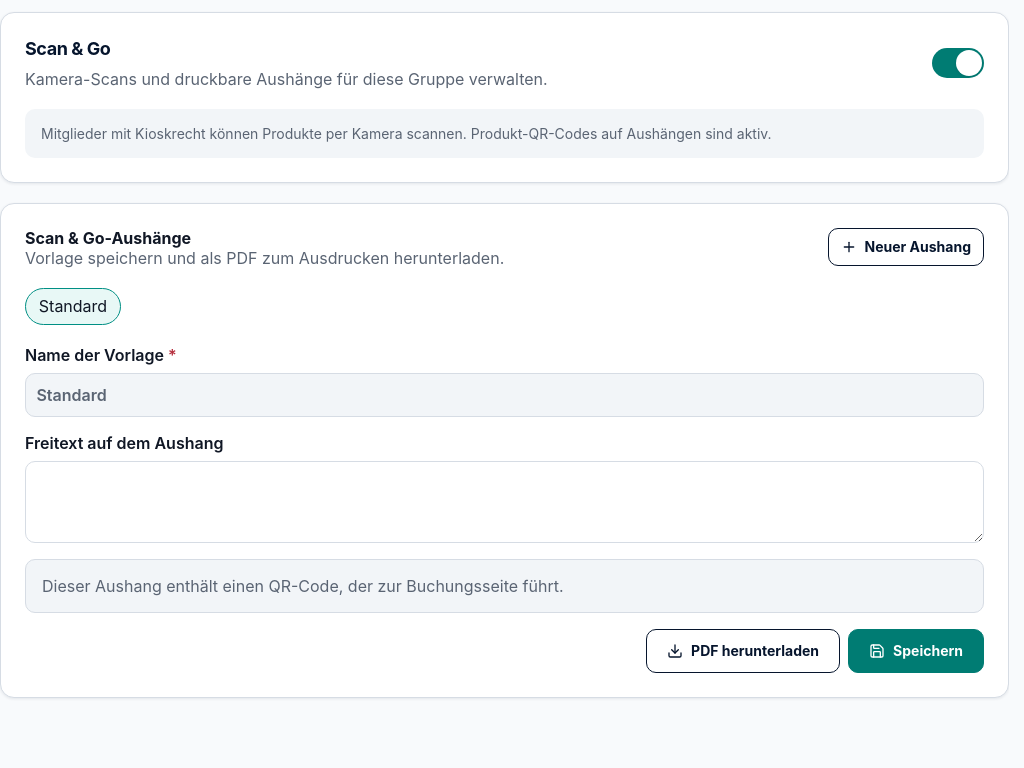
Test: KioskSettingsSection › explains the impact and confirms before disabling Scan and Go
The image size is (1024, 768).
Click the switch named "Scan & Go aktivieren" at x=958, y=63, box [932,48,984,78]
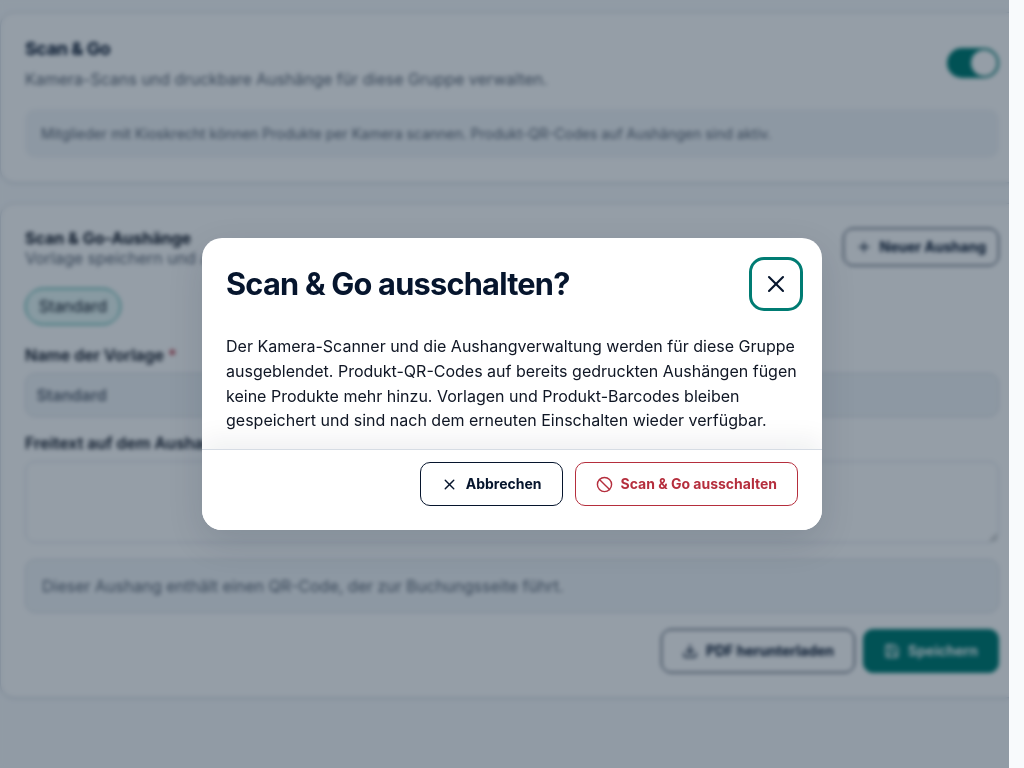
Expected: the switch named "Scan & Go aktivieren" is checked, [947,48,999,78]
Expected: the text "Der Kamera-Scanner und die Aushangverwaltung werden für diese Gruppe ausgeblendet. Produkt-QR-Codes auf bereits gedruckt" is shown, [226,336,797,430]
Click the button "Abbrechen" at x=491, y=484, box [420,462,562,506]
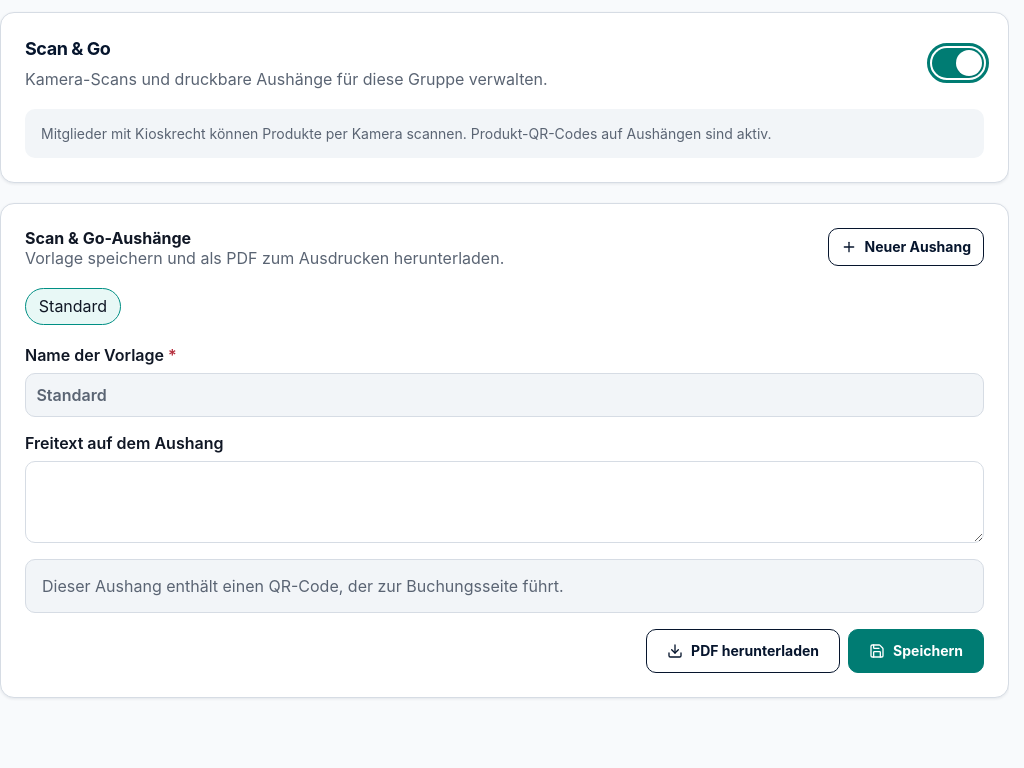
Expected: the heading "Scan & Go ausschalten?" is gone
Click the switch named "Scan & Go aktivieren" at x=958, y=63, box [932,48,984,78]
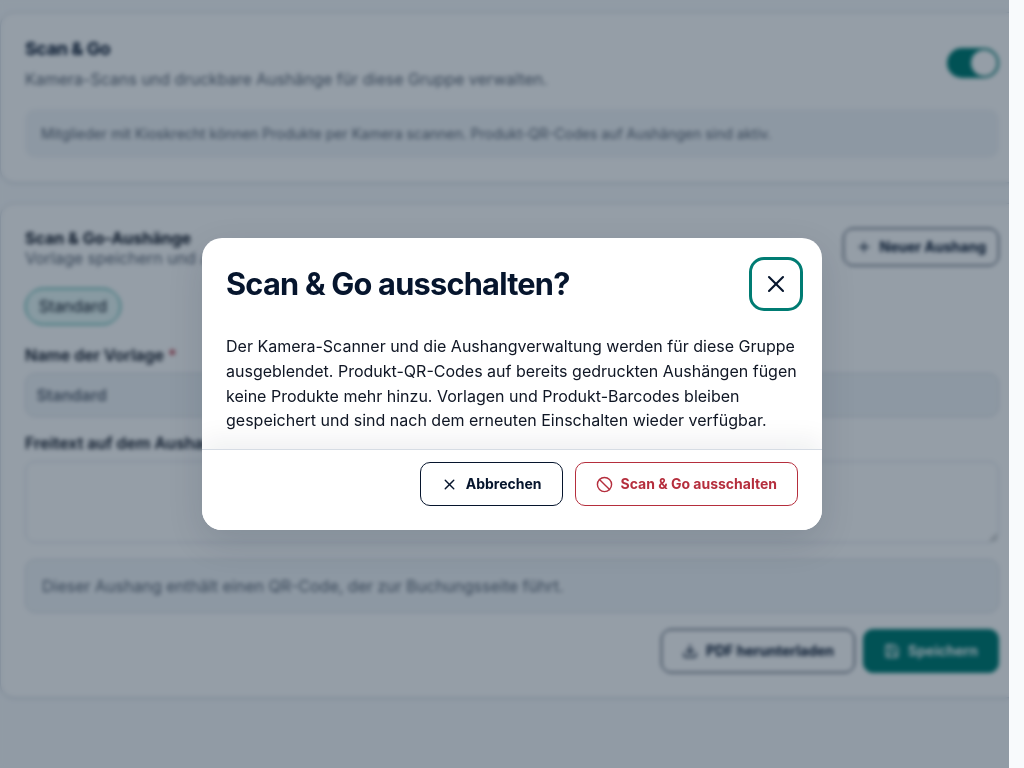
Click the button "Scan & Go ausschalten" at x=686, y=484, box [574,462,798,506]
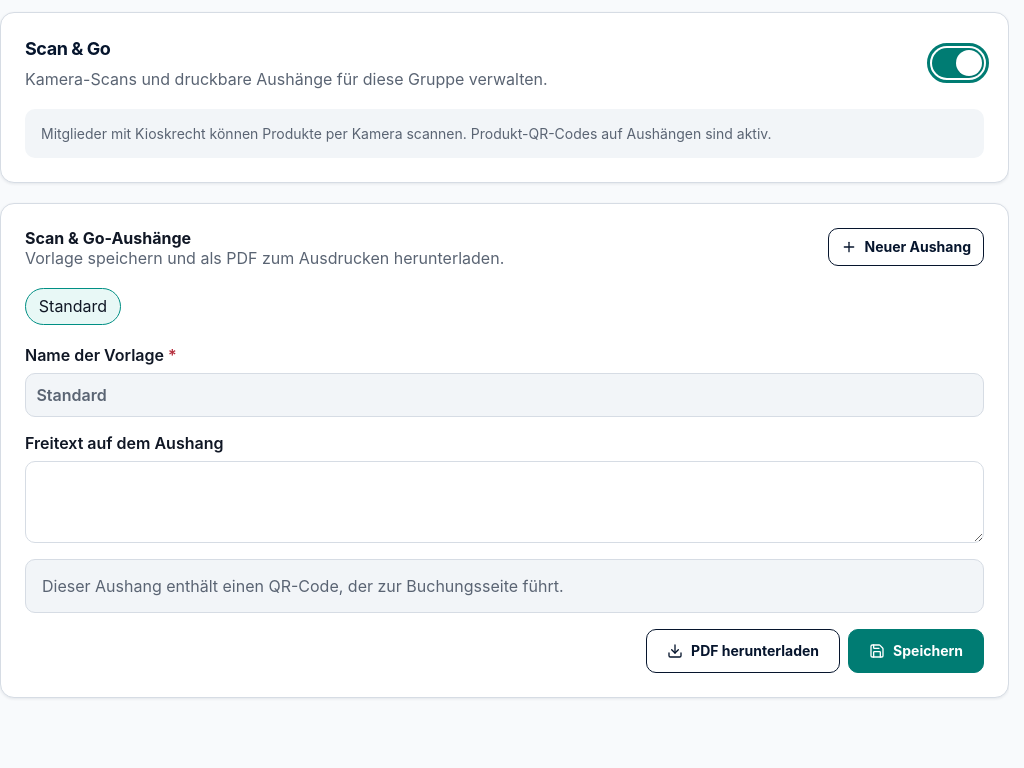
Expected: the heading "Scan & Go ausschalten?" is gone
